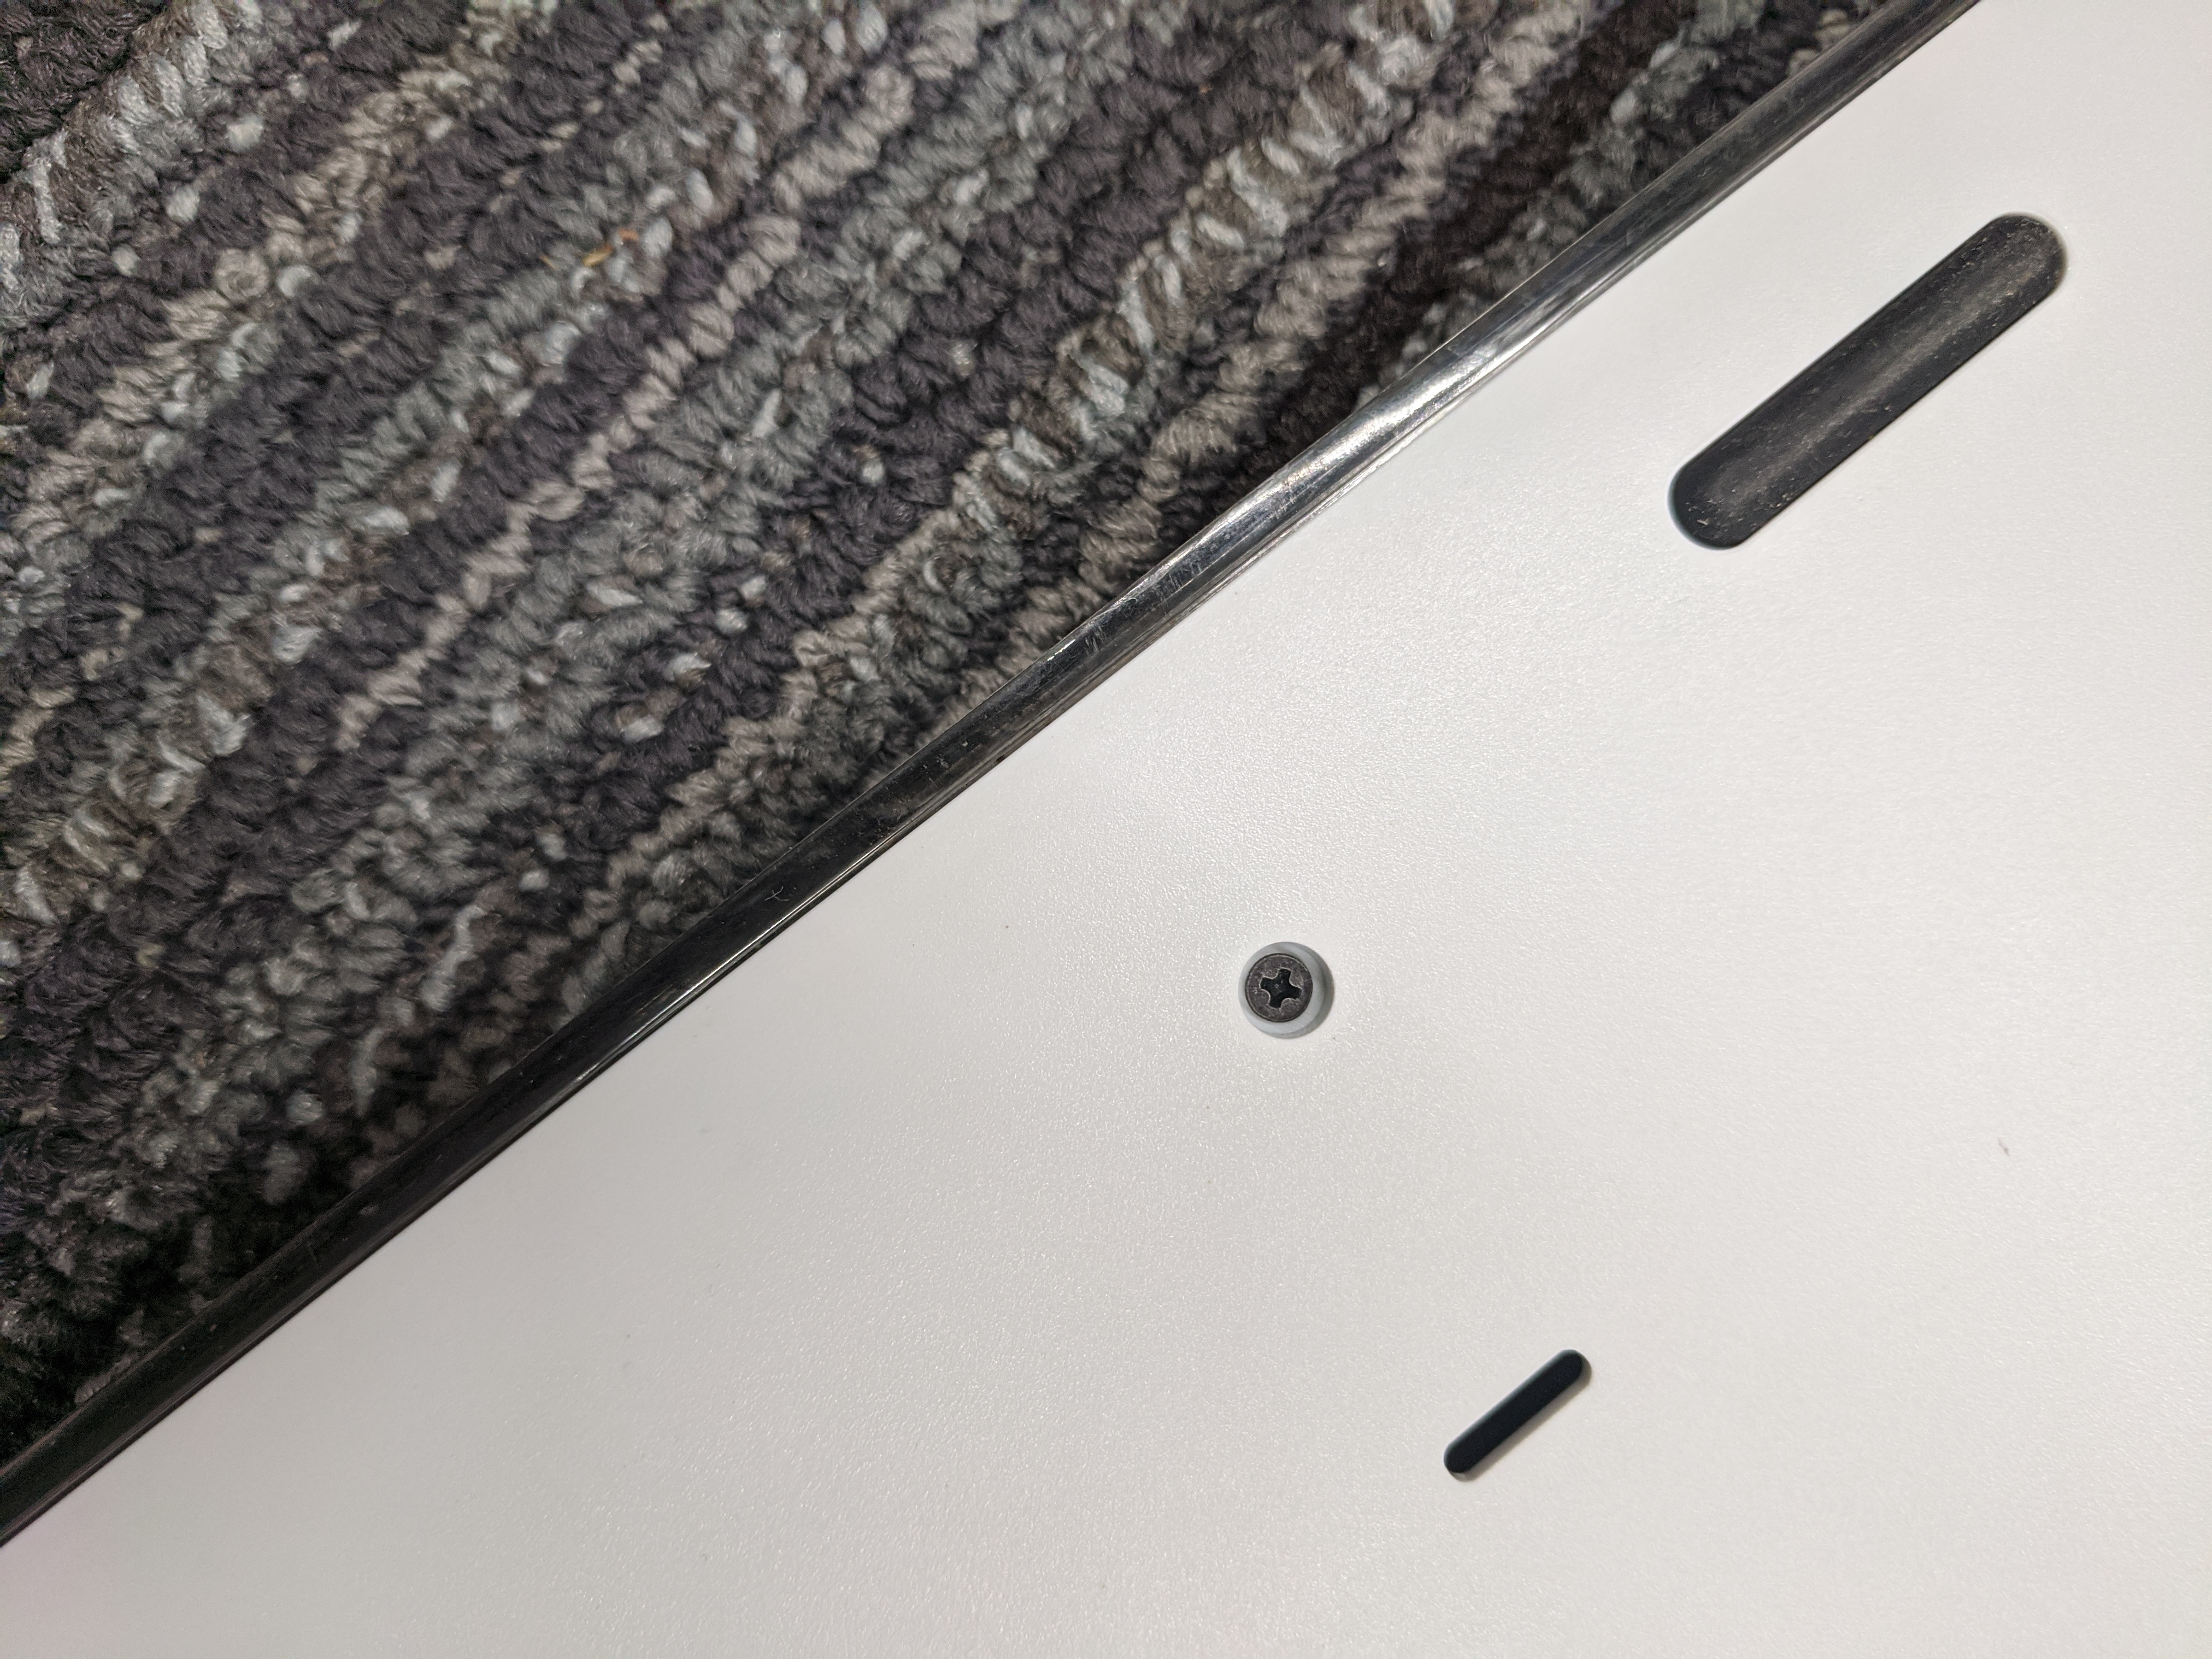cross_recessed_screw: (1235, 945, 1324, 1028)
